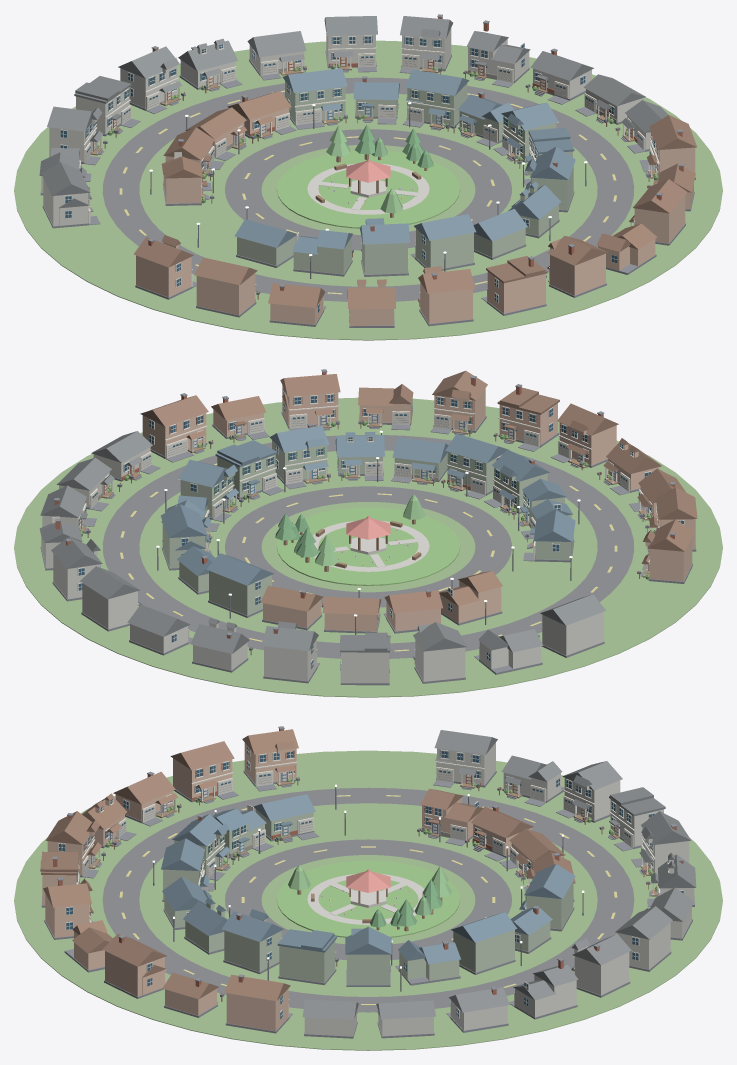
File: founder-park.glb
The picture shows the model from 3 angles, top to bottom: view 1: azimuth 30°, elevation 25°; view 2: azimuth 150°, elevation 25°; view 3: azimuth 270°, elevation 25°; orthographic projection.
Visible parts, largest first — view 1: pad.003, ringroad.003, ringroad.002, lawn.001, suburban_44_double_garage.001, suburban_42_side_garage_two.001, suburban_50_garage_colonial.001, suburban_68_suburban_farmhouse.001, suburban_49_center_colonial.001, suburban_54_modern_suburban.001, suburban_53_suburban_farmhouse.001, suburban_55_front_gable.001 (+35 smaller); view 2: pad.003, ringroad.003, ringroad.002, lawn.001, suburban_59_double_garage.001, suburban_54_modern_suburban.001, suburban_72_side_garage_two.001, suburban_53_suburban_farmhouse.001, suburban_38_suburban_farmhouse.001, suburban_57_side_garage_two.001, suburban_44_double_garage.001, suburban_55_front_gable.001 (+35 smaller); view 3: pad.003, ringroad.003, ringroad.002, lawn.001, suburban_59_double_garage.001, suburban_72_side_garage_two.001, suburban_50_garage_colonial.001, suburban_57_side_garage_two.001, suburban_38_suburban_farmhouse.001, suburban_42_side_garage_two.001, suburban_49_center_colonial.001, suburban_64_center_colonial.001 (+35 smaller).
Boxes of the visible parts, x1,y1,x2,y2 form: pad.003: (14, 40, 722, 340); ringroad.003: (102, 77, 634, 301); ringroad.002: (225, 129, 511, 250); lawn.001: (276, 150, 460, 228); suburban_44_double_garage.001: (282, 68, 347, 129); suburban_42_side_garage_two.001: (403, 69, 469, 131); suburban_50_garage_colonial.001: (194, 257, 260, 317); suburban_68_suburban_farmhouse.001: (118, 46, 185, 113); suburban_49_center_colonial.001: (133, 235, 196, 299); suburban_54_modern_suburban.001: (481, 256, 547, 315); suburban_53_suburban_farmhouse.001: (418, 266, 474, 326); suburban_55_front_gable.001: (546, 235, 608, 297); pad.003: (14, 397, 722, 697); ringroad.003: (102, 434, 634, 658); ringroad.002: (225, 486, 511, 607); lawn.001: (276, 507, 460, 585); suburban_59_double_garage.001: (140, 393, 213, 462); suburban_54_modern_suburban.001: (493, 384, 559, 451); suburban_72_side_garage_two.001: (538, 594, 605, 657); suburban_53_suburban_farmhouse.001: (550, 403, 618, 470); suburban_38_suburban_farmhouse.001: (270, 423, 330, 489); suburban_57_side_garage_two.001: (280, 369, 340, 430); suburban_44_double_garage.001: (206, 553, 274, 617); suburban_55_front_gable.001: (430, 370, 487, 436); pad.003: (14, 750, 722, 1050); ringroad.003: (102, 787, 634, 1012); ringroad.002: (225, 839, 511, 959); lawn.001: (276, 860, 460, 937); suburban_59_double_garage.001: (224, 974, 292, 1033); suburban_72_side_garage_two.001: (433, 730, 497, 790); suburban_50_garage_colonial.001: (170, 741, 238, 805); suburban_57_side_garage_two.001: (102, 934, 166, 998); suburban_38_suburban_farmhouse.001: (222, 909, 283, 974); suburban_42_side_garage_two.001: (451, 912, 517, 974); suburban_49_center_colonial.001: (242, 726, 299, 791); suburban_64_center_colonial.001: (571, 934, 631, 997).
Size of the model in its own units: 116 by 8.48 by 116.
